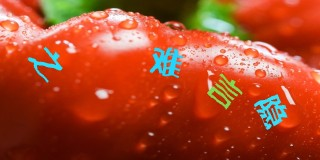之: (27, 46, 62, 82)
言: (207, 73, 242, 109)
隐: (253, 94, 289, 130)
难: (151, 47, 183, 79)
